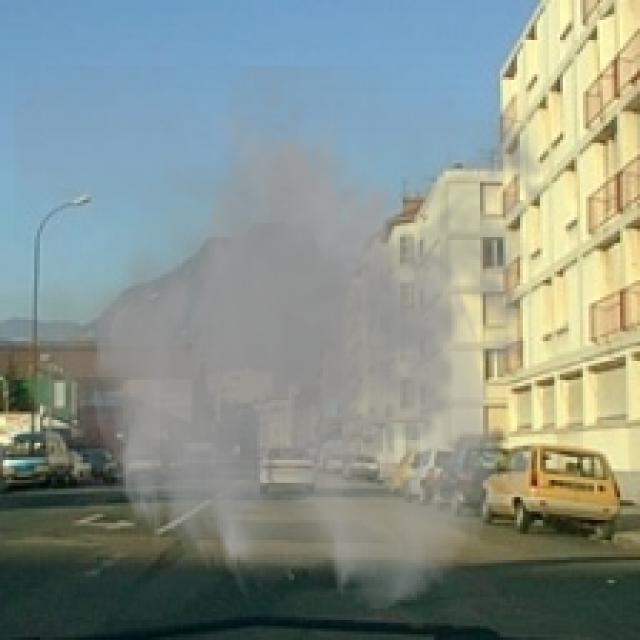smoke: (14, 66, 563, 614)
